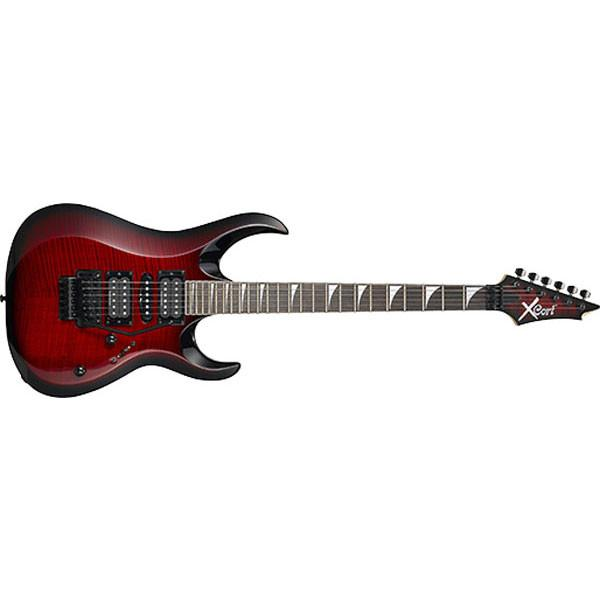ElectricGuitar: (13, 201, 601, 406)
